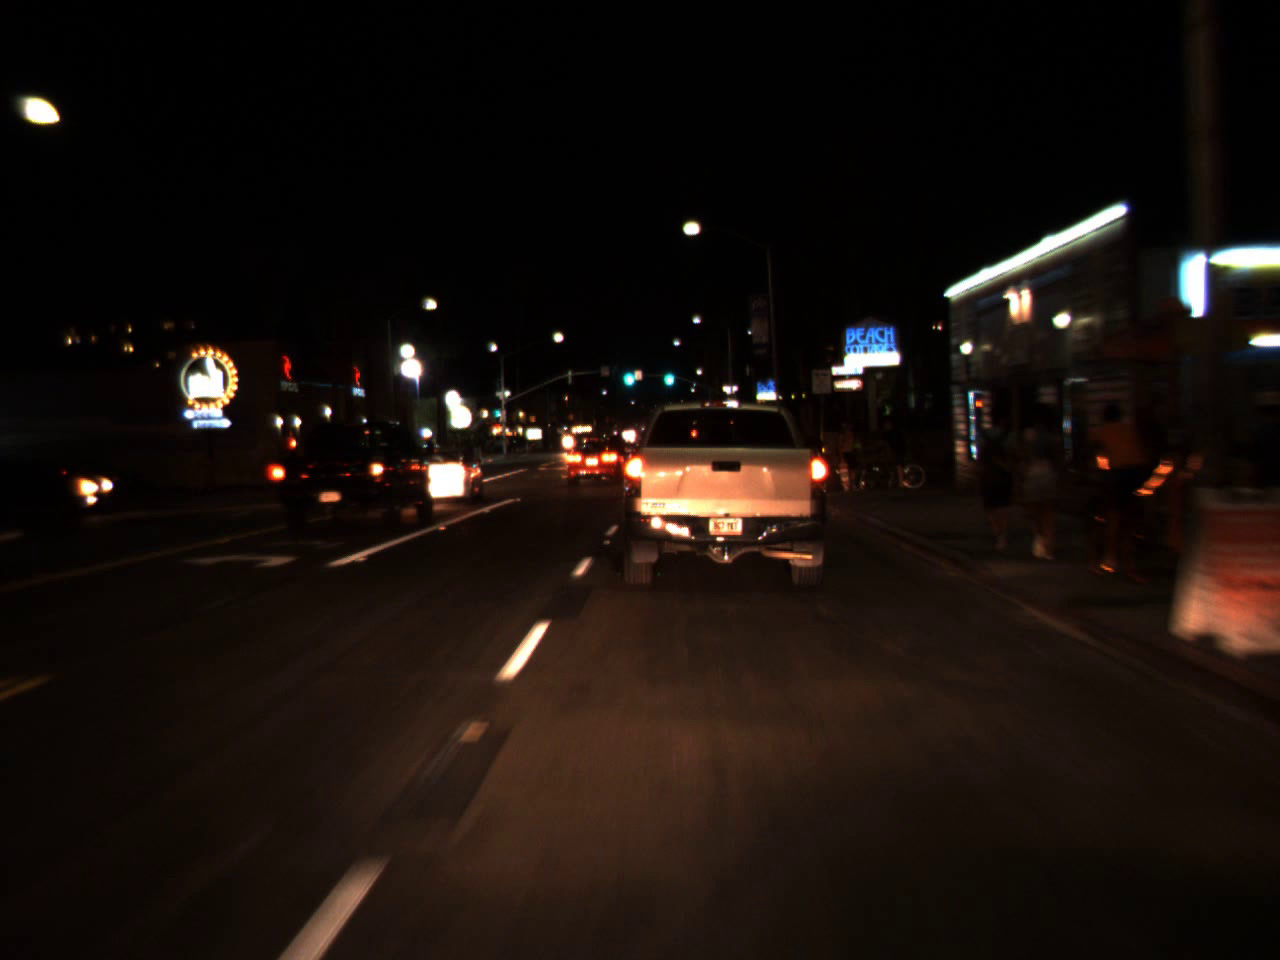go: (618, 357, 637, 390), (659, 360, 677, 390), (490, 398, 504, 422)
